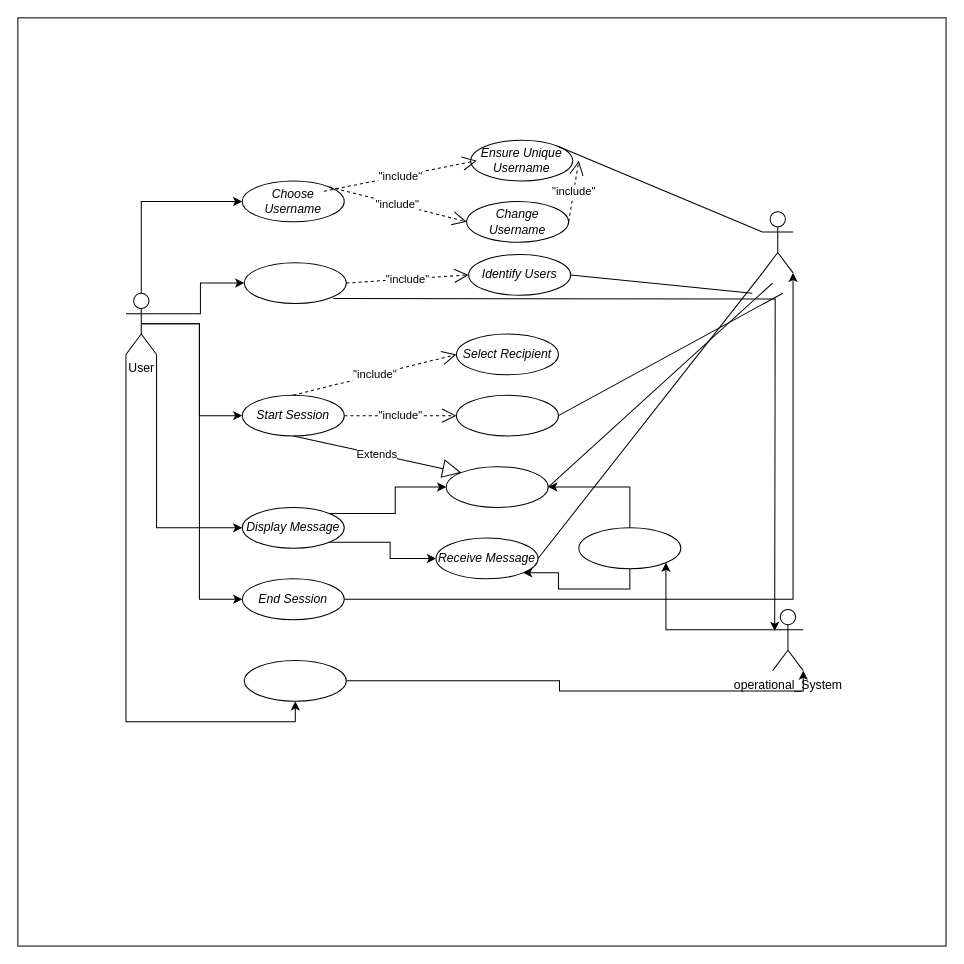
Some shapes in this 964 by 964 pixel diagram are drawn without their labels. Each missing label, with the centre of its shape:
Display Online Users: [294,282]
Minimize Window: [294,680]
Network: [777,242]
Retrieve History: [506,415]
Send Message: [496,486]
Timer Controller: [629,548]
